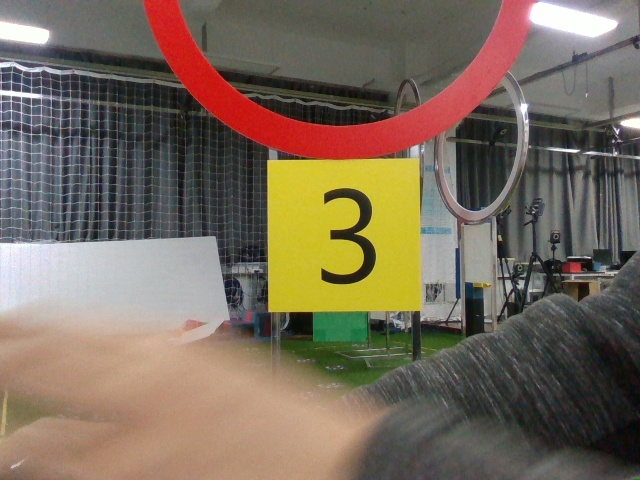target: (268, 156, 420, 312)
